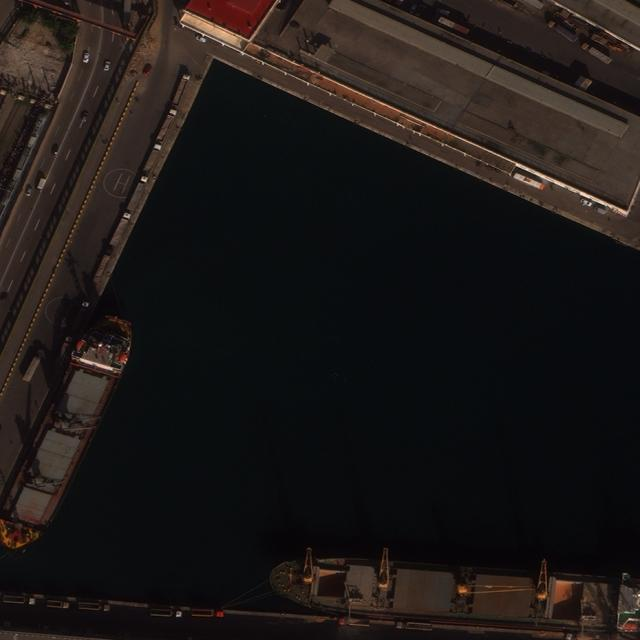Cargo: (1, 318, 144, 552), (268, 545, 638, 630)
